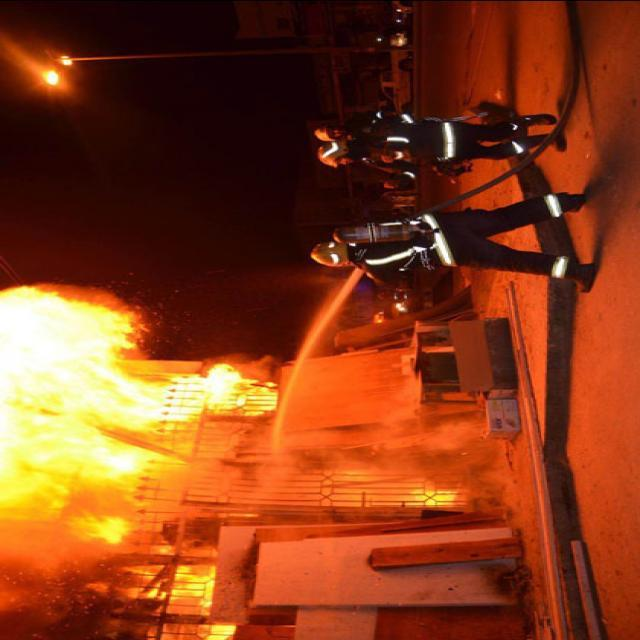Fire: (3, 288, 268, 538)
